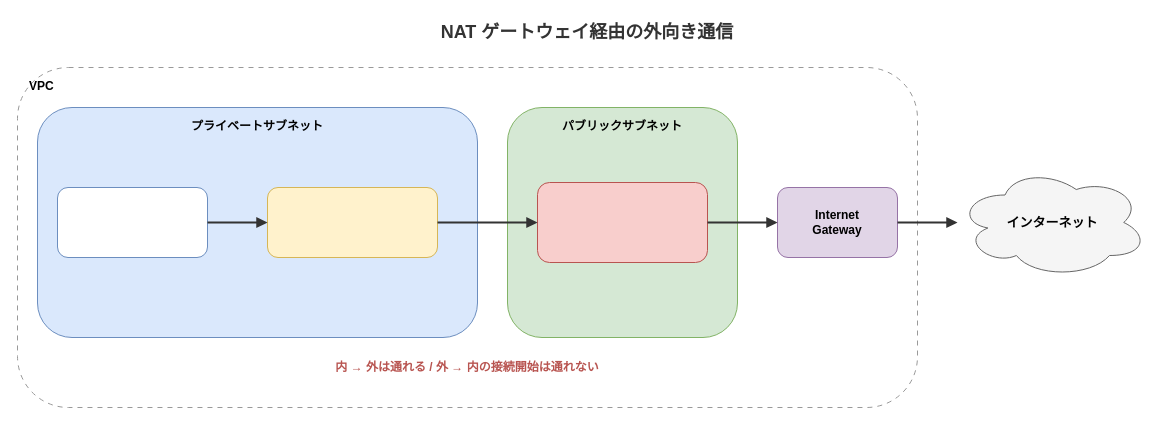
Image size: 1165x425. Some labels were removed from this diagram. Each missing label, with the centre of its shape:
"EC2 10.0.1.10 パブリック IP なし" belongs at [132,222].
"NAT Gateway EIP: x.x.x.x （固定のパブリック IP）" belongs at [622,222].
"ルートテーブル 0.0.0.0/0 → NAT" belongs at [352,222].
